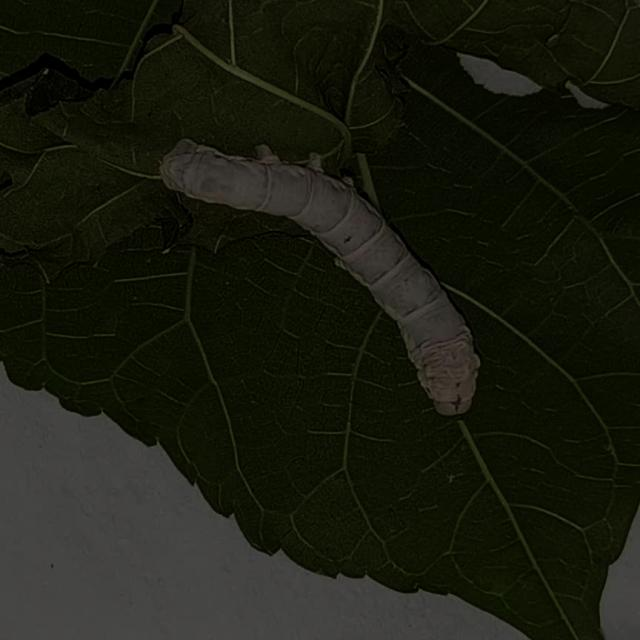Healthy: (140, 124, 512, 434)
